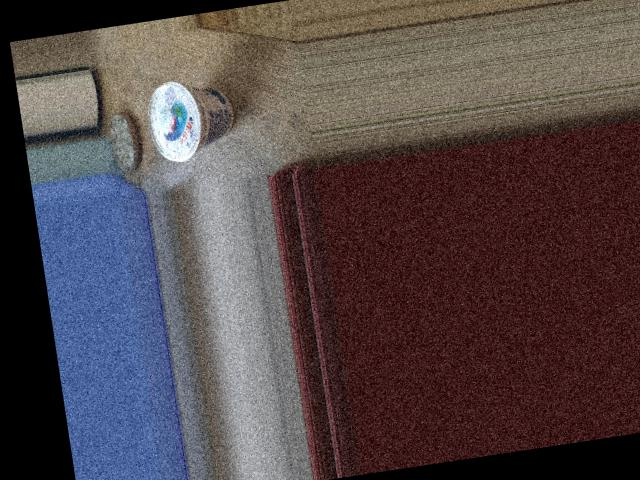cotage: (140, 68, 250, 152)
